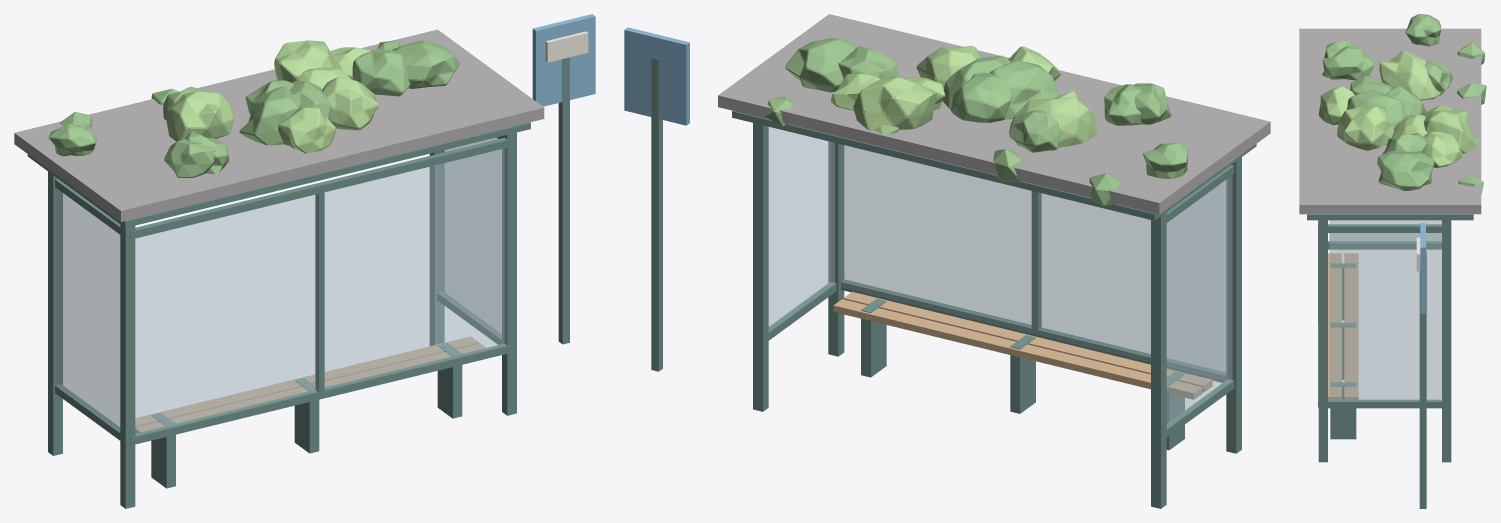
The model's file is Prop_Shelter_A.fbx.
3 renders of one model, left to right at view 1: azimuth 30°, elevation 25°; view 2: azimuth 150°, elevation 25°; view 3: azimuth 270°, elevation 25°, orthographic. The views are drawn at different scales.
Visible parts, largest first — view 1: Prop_Shelter_A, Prop_Shelter_A_Veg; view 2: Prop_Shelter_A, Prop_Shelter_A_Veg; view 3: Prop_Shelter_A, Prop_Shelter_A_Veg.
Boxes of the visible parts, <box> form: Prop_Shelter_A: <box>14,14,595,508</box>; Prop_Shelter_A_Veg: <box>48,40,459,178</box>; Prop_Shelter_A: <box>624,14,1270,508</box>; Prop_Shelter_A_Veg: <box>764,38,1187,206</box>; Prop_Shelter_A: <box>1299,28,1481,508</box>; Prop_Shelter_A_Veg: <box>1318,14,1486,193</box>.
Bounding box in the file's own units: 4.57 × 2.78 × 1.6.
